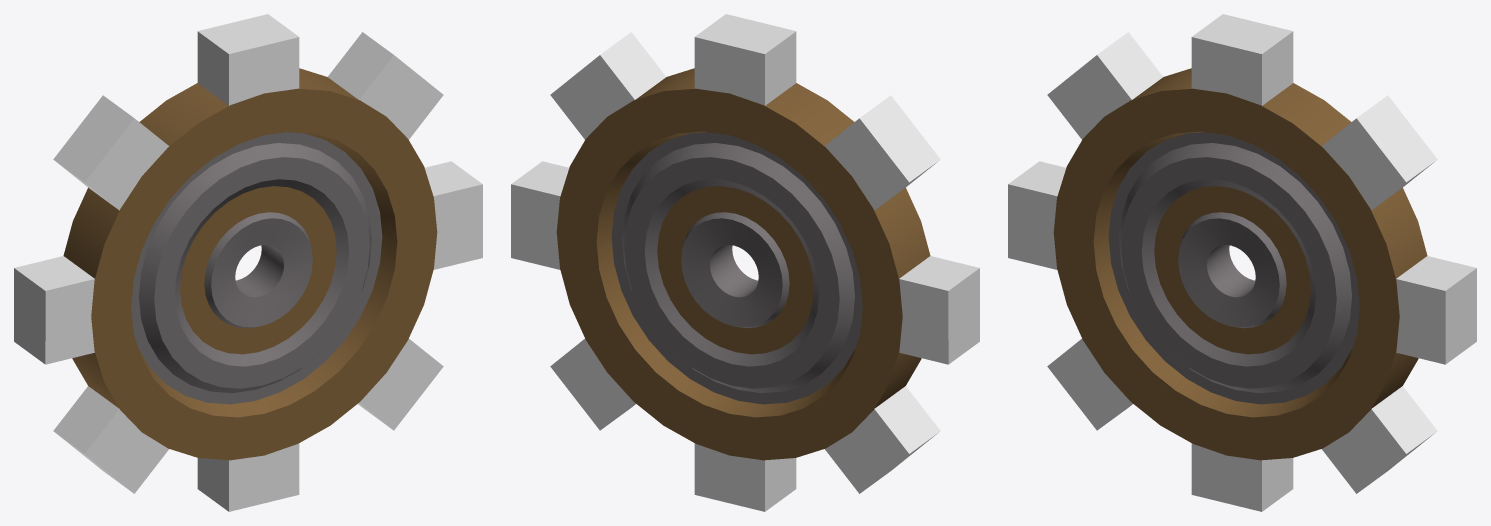
Rendered from cog_32_teeth_8.fbx.
The picture shows the model from 3 angles, left to right: view 1: azimuth 30°, elevation 25°; view 2: azimuth 150°, elevation 25°; view 3: azimuth 330°, elevation 25°; orthographic projection.
Parts seen in each view (by area): view 1: Cog_32, Teeth_8_32; view 2: Cog_32, Teeth_8_32; view 3: Cog_32, Teeth_8_32.
Part boxes in pixels (x1,y1,x2,y2): Cog_32: (63, 68, 437, 460); Teeth_8_32: (14, 14, 482, 511); Cog_32: (556, 68, 930, 460); Teeth_8_32: (511, 14, 979, 511); Cog_32: (1053, 68, 1427, 460); Teeth_8_32: (1008, 14, 1476, 511).
Size of the model in its own units: 30.48 by 30.48 by 3.81.
